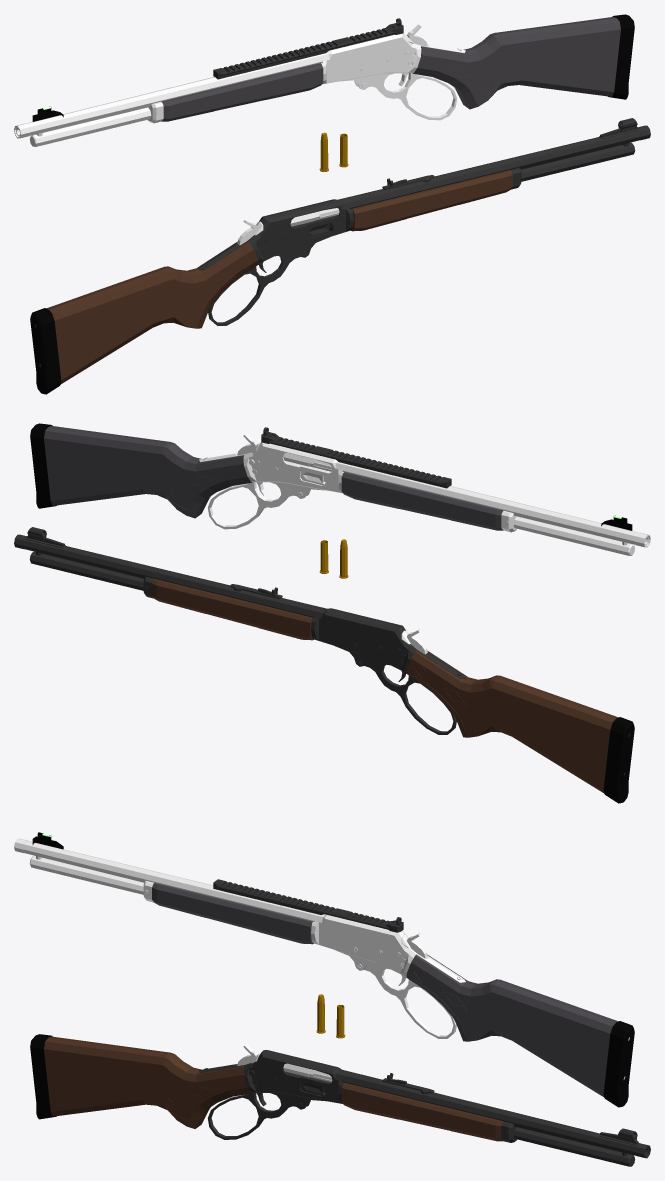
Rendered from low-poly_marlin_1895_gblsbl.glb.
3 views of the same model, one above another, from view 1: azimuth 30°, elevation 25°; view 2: azimuth 150°, elevation 25°; view 3: azimuth 330°, elevation 25° (orthographic).
Visible parts, largest first — view 1: sbl_10, gbl_2, lever sbl_11, lever gbl_3; view 2: gbl_2, sbl_10, lever sbl_11, lever gbl_3; view 3: sbl_10, gbl_2, lever sbl_11, lever gbl_3.
Part boxes in pixels (left/top/right/bottom): sbl_10: left=16, top=14, right=634, bottom=146; gbl_2: left=30, top=118, right=641, bottom=394; lever sbl_11: left=362, top=73, right=456, bottom=120; lever gbl_3: left=208, top=250, right=307, bottom=325; gbl_2: left=23, top=527, right=634, bottom=803; sbl_10: left=30, top=423, right=648, bottom=555; lever sbl_11: left=208, top=482, right=302, bottom=529; lever gbl_3: left=357, top=659, right=456, bottom=734; sbl_10: left=23, top=832, right=634, bottom=1107; gbl_2: left=30, top=1034, right=648, bottom=1166; lever sbl_11: left=357, top=963, right=456, bottom=1038; lever gbl_3: left=207, top=1093, right=302, bottom=1139.
Bounding box in the file's own units: 11.68 × 5.11 × 0.4152.
